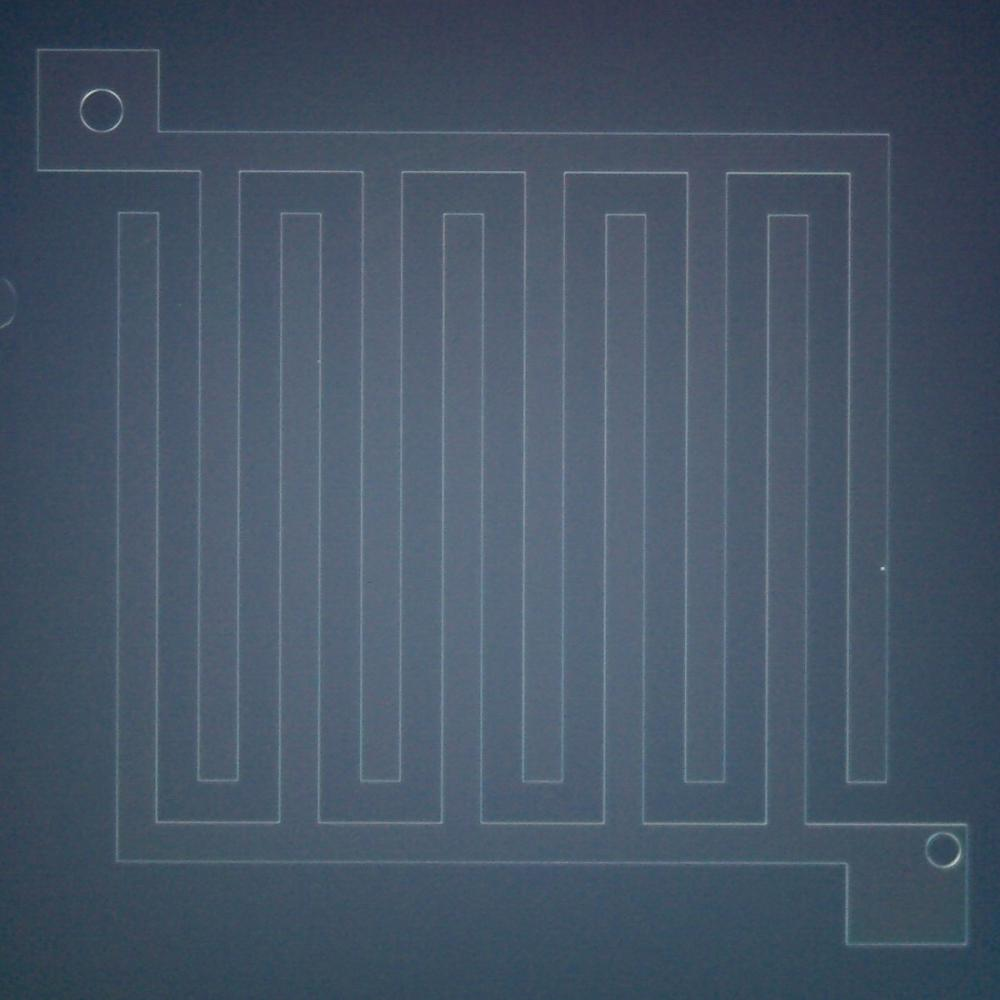dot: (882, 567, 885, 571)
